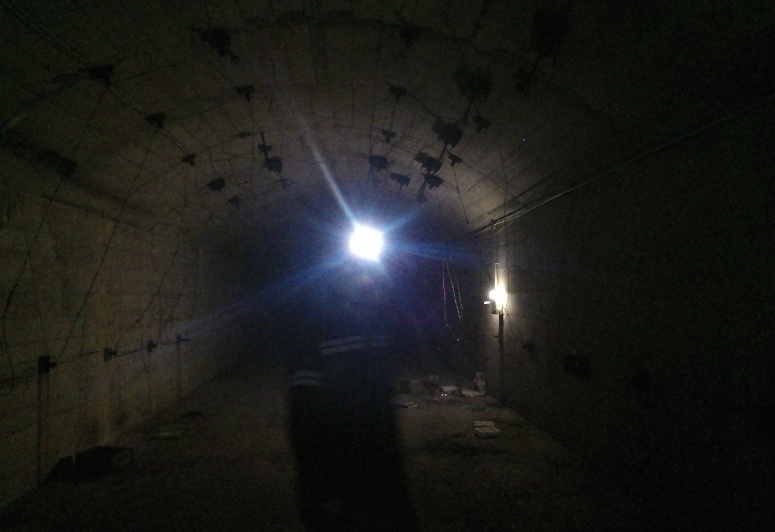person: (268, 228, 416, 532)
